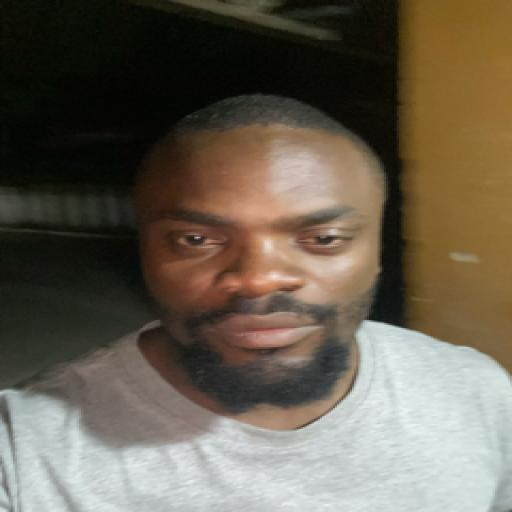JEANLUC: (130, 95, 392, 419)
